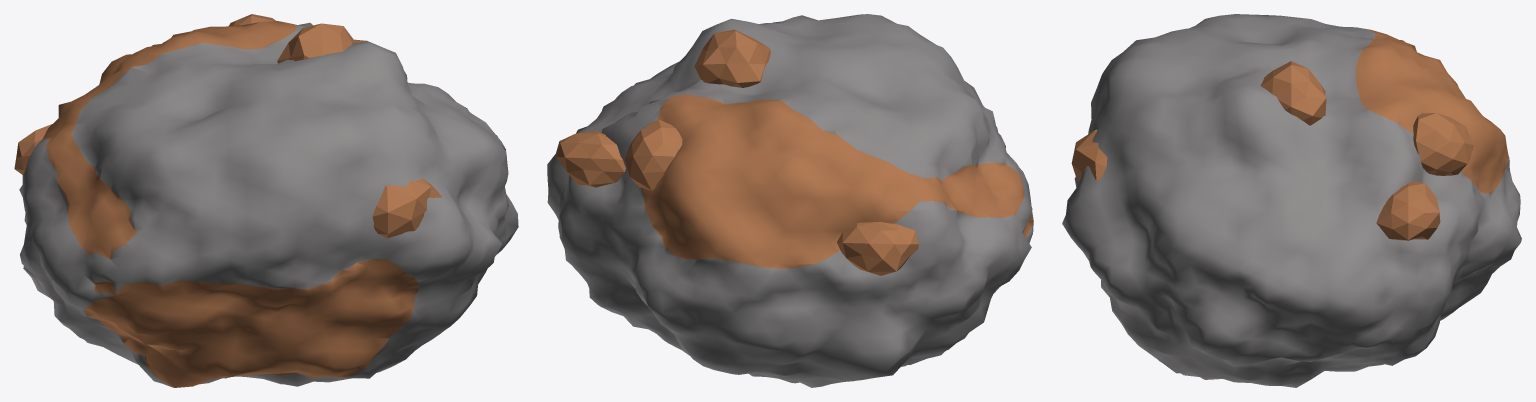
The model's file is bauxite_surface.glb.
3 renders of one model, left to right at view 1: azimuth 30°, elevation 25°; view 2: azimuth 150°, elevation 25°; view 3: azimuth 270°, elevation 25°, orthographic. The views are drawn at different scales.
Visible parts, largest first — view 1: bauxite_surface; view 2: bauxite_surface; view 3: bauxite_surface.
Part boxes in pixels (left/top/right/bottom): bauxite_surface: left=14, top=14, right=518, bottom=387; bauxite_surface: left=547, top=14, right=1033, bottom=387; bauxite_surface: left=1062, top=14, right=1521, bottom=387.
Bounding box in the file's own units: 1.41 × 0.9719 × 1.25.
